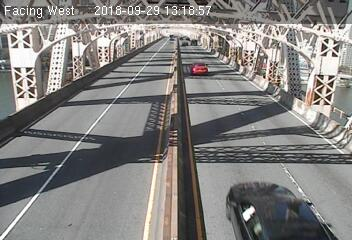car: (220, 176, 329, 240), (187, 60, 211, 78)
